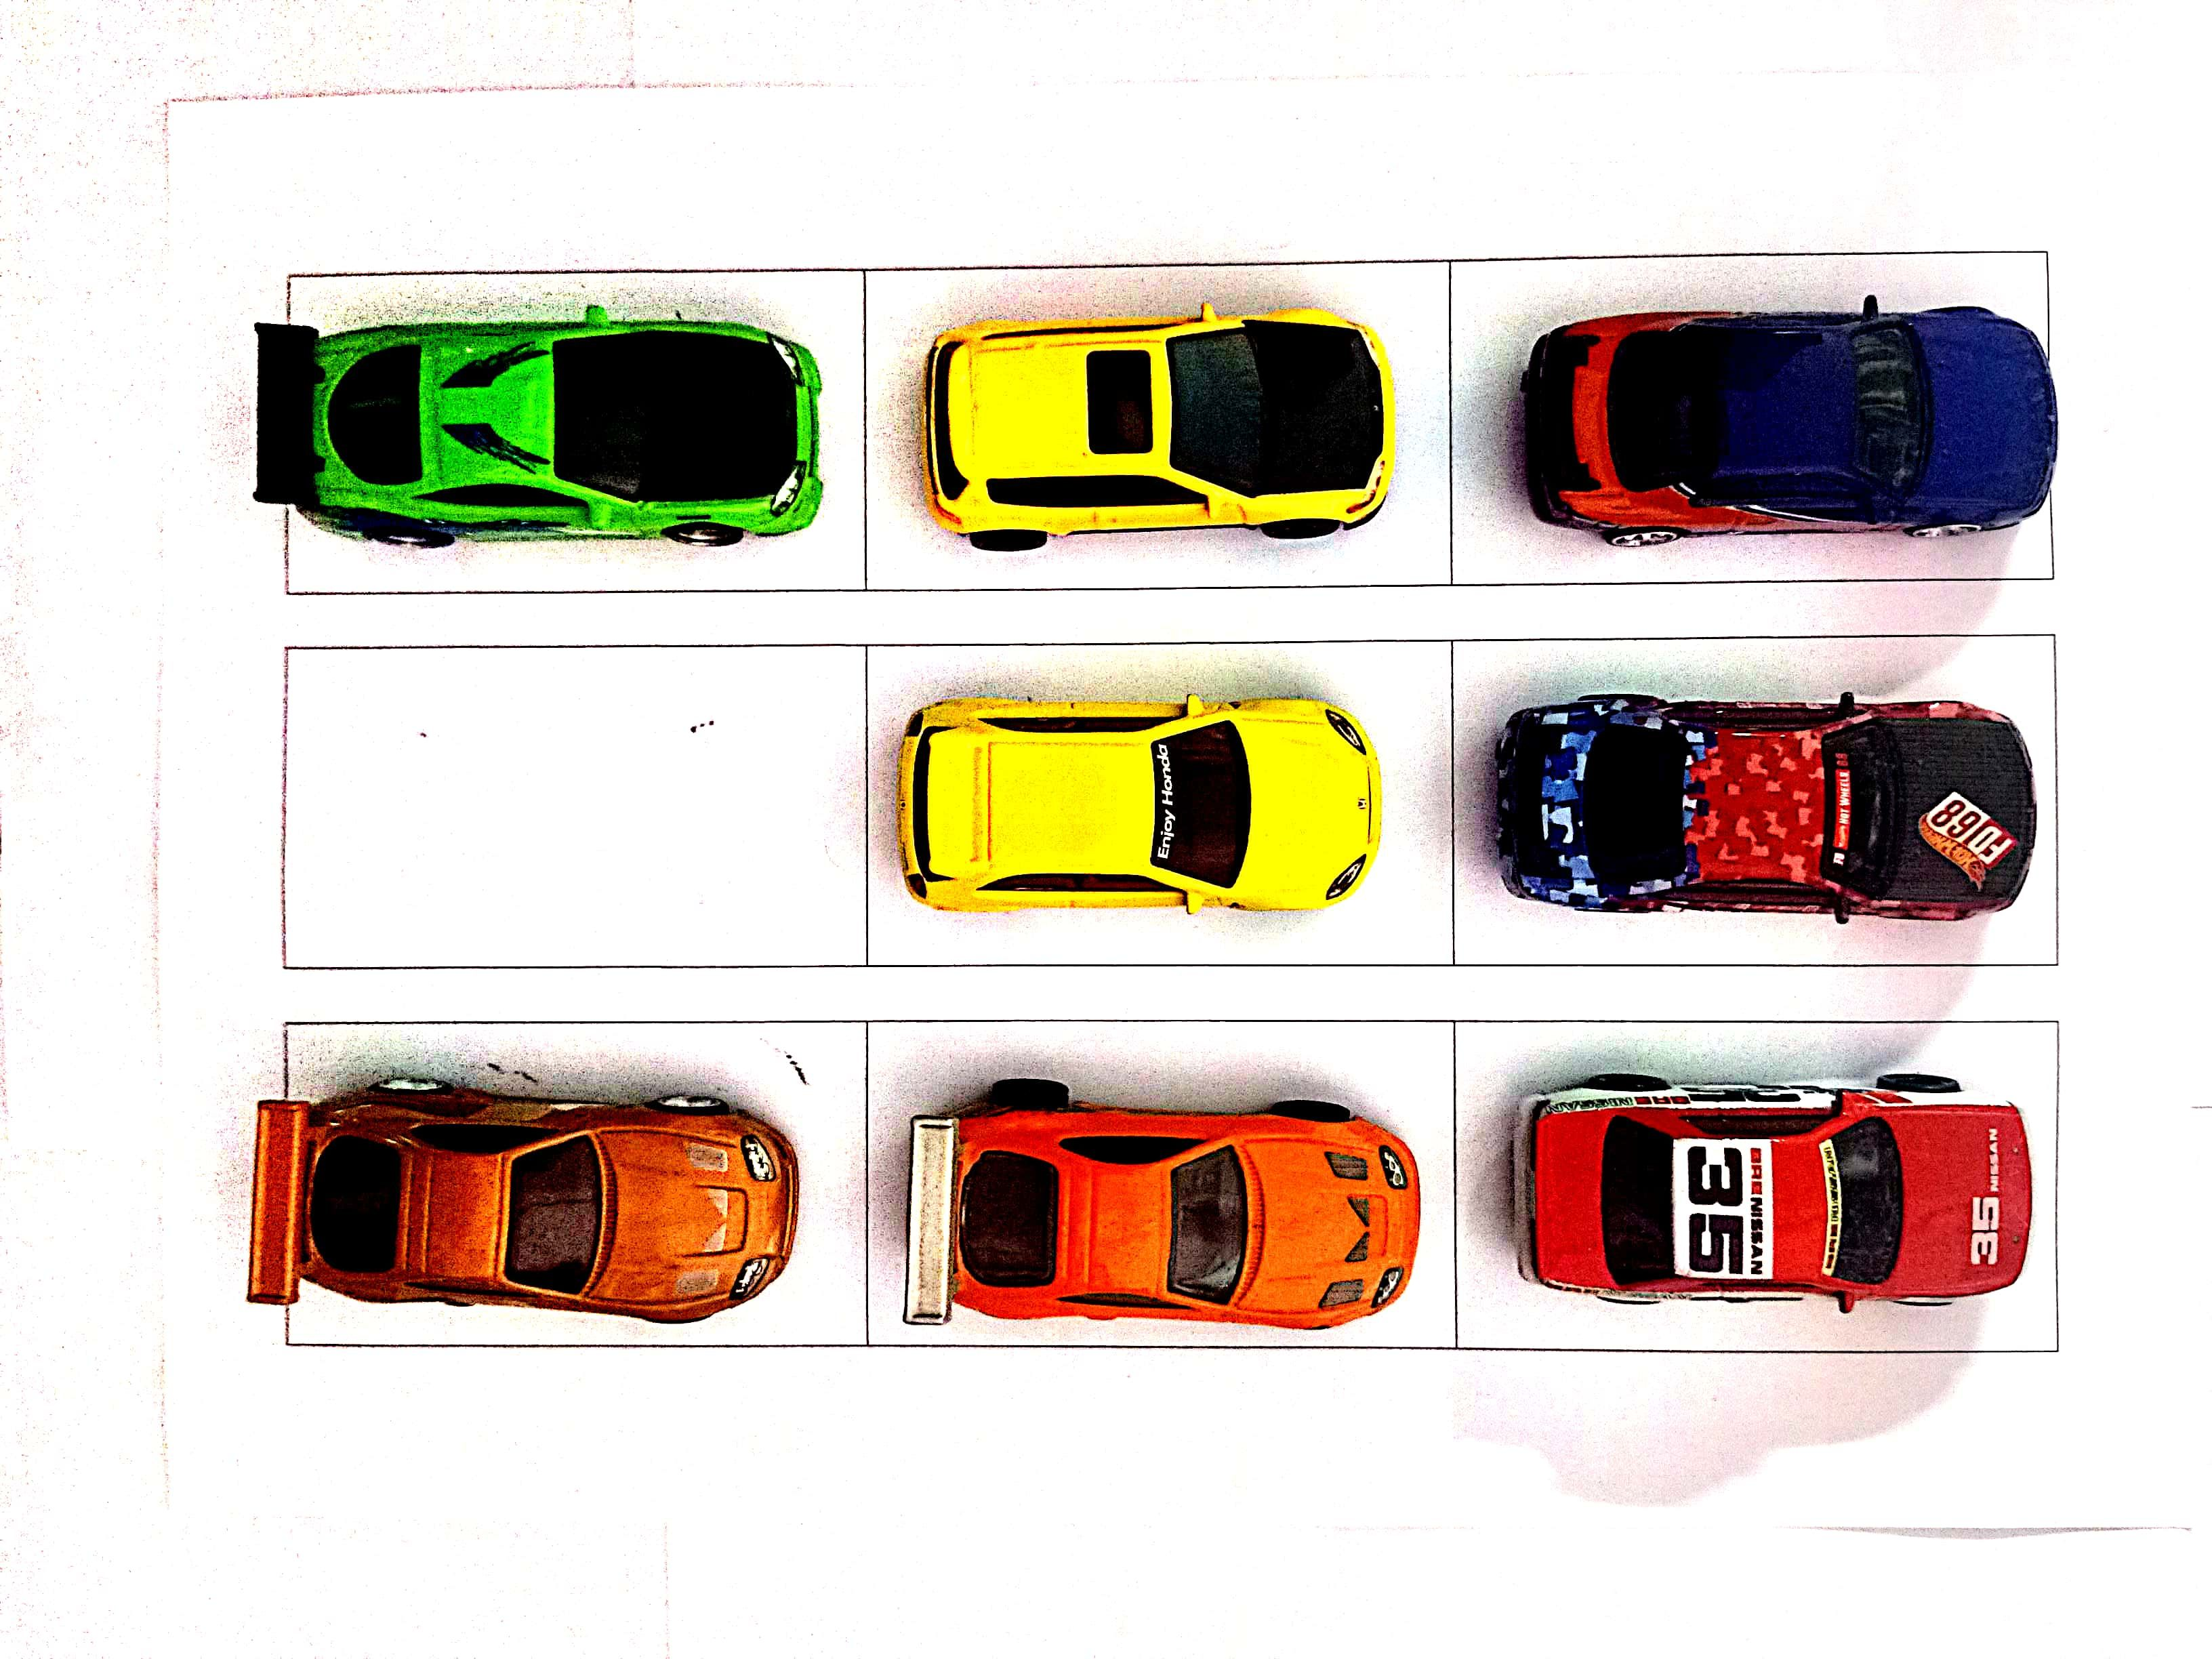Busy: (1451, 640, 2055, 967), (1460, 1023, 2062, 1345), (869, 1014, 1458, 1342), (1451, 253, 2045, 575), (871, 267, 1451, 593), (286, 270, 866, 589), (871, 641, 1442, 964), (286, 1028, 871, 1342)
Free: (287, 648, 871, 967)
